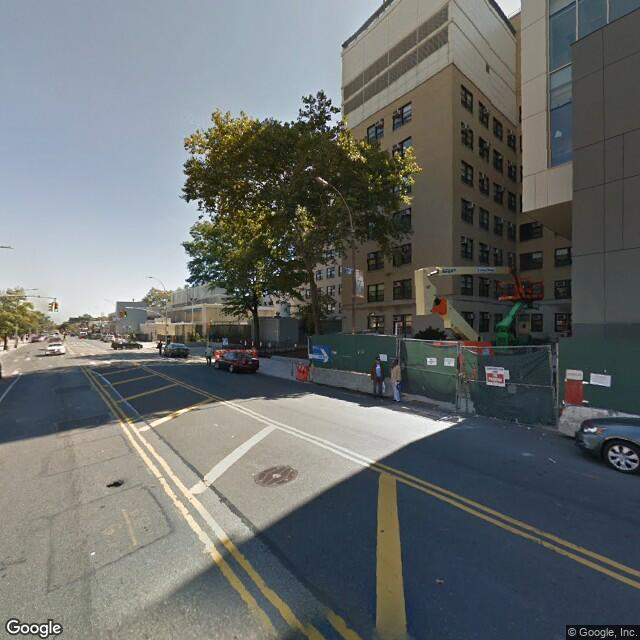litter: (86, 550, 99, 557), (547, 456, 557, 464), (526, 425, 535, 431)
